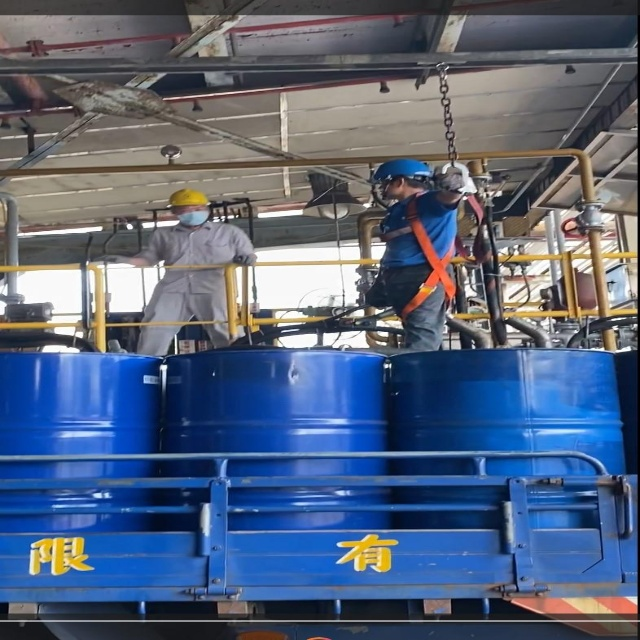Arnes_seguridad: (389, 200, 466, 320)
